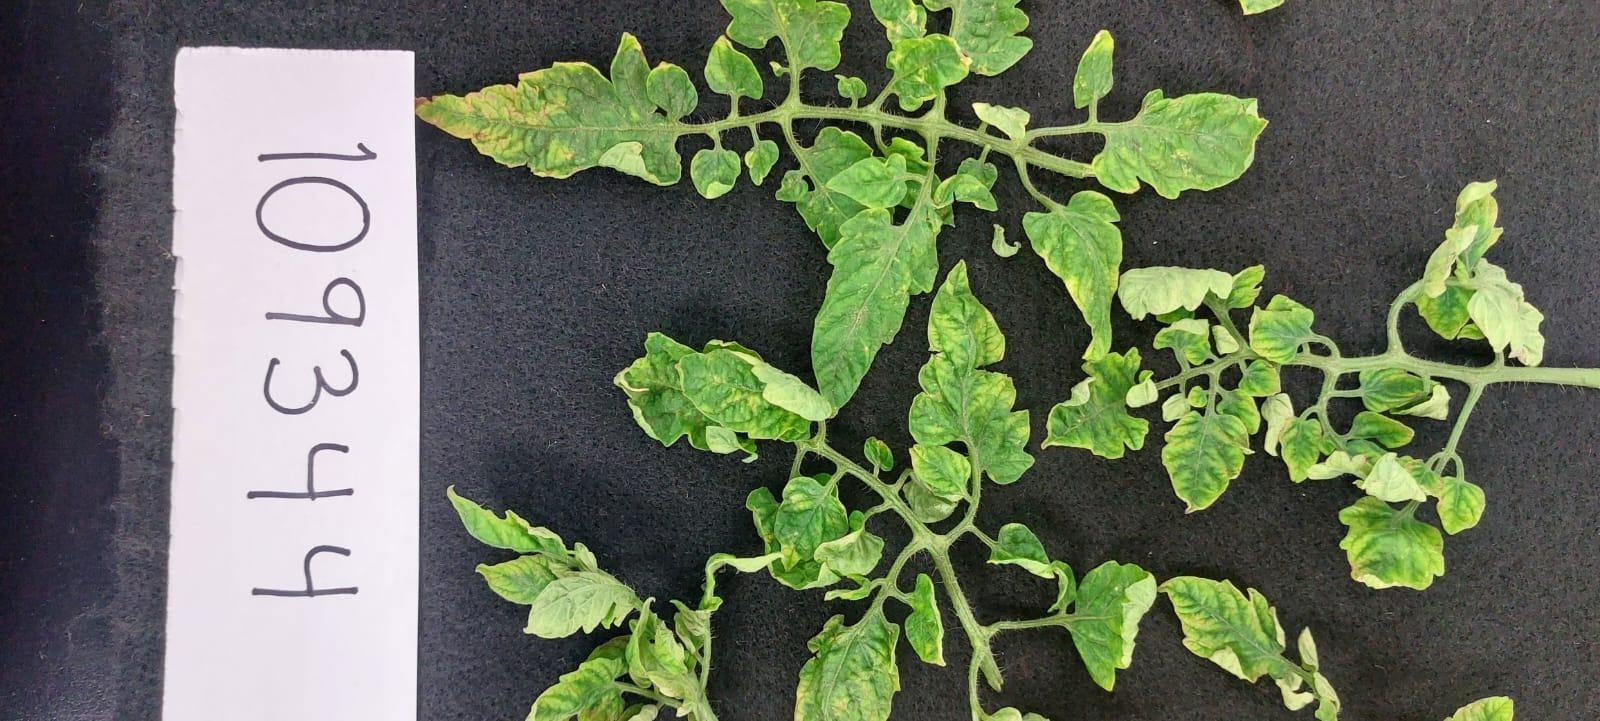Rugose leaf: (416, 30, 697, 182), (1162, 575, 1341, 719), (1093, 86, 1269, 196), (1022, 191, 1122, 359), (678, 341, 809, 441), (795, 603, 900, 719), (1045, 347, 1147, 459), (1341, 497, 1444, 588), (1162, 409, 1247, 512), (775, 475, 850, 569), (888, 34, 969, 109), (911, 444, 972, 503), (1075, 31, 1112, 106), (1438, 475, 1484, 534)
